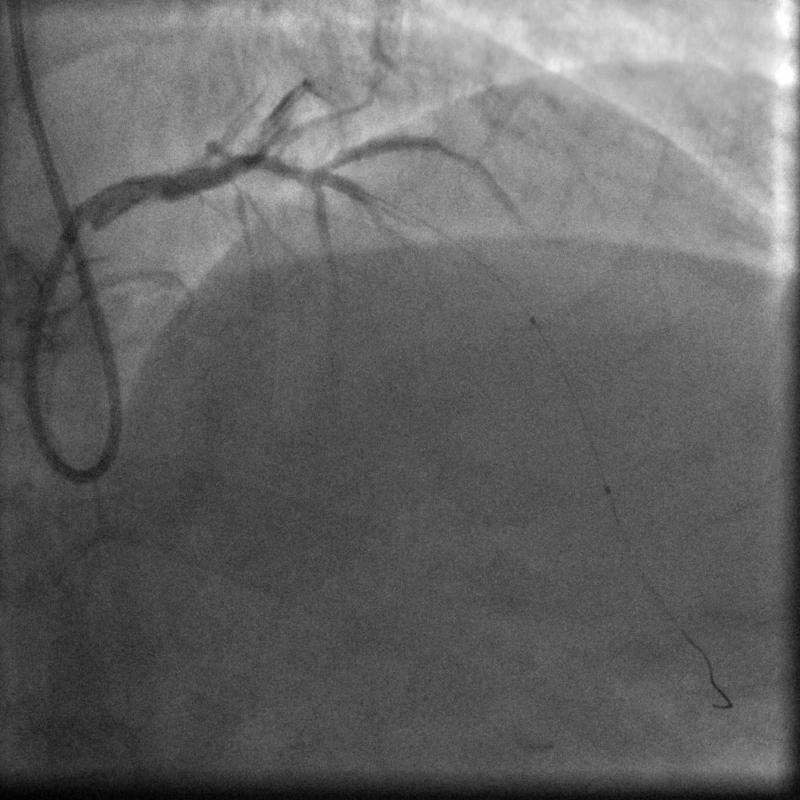Stenosis: (424, 129, 471, 173)
